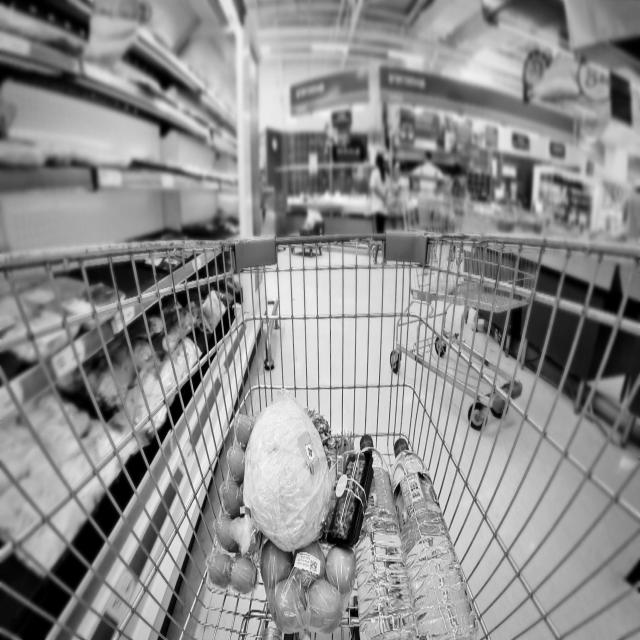bap cai: (244, 403, 334, 552)
tao: (256, 534, 364, 635)
trung: (212, 410, 260, 602)
